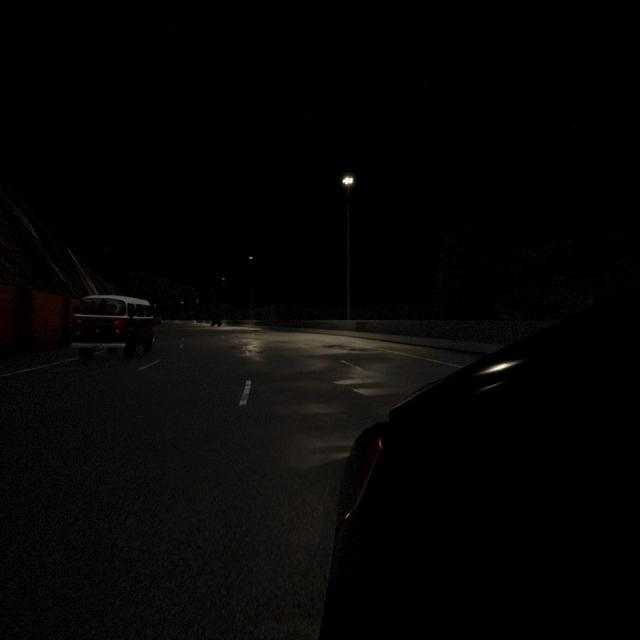Vehicle: (321, 313, 640, 640), (70, 294, 154, 362), (211, 318, 221, 327)
